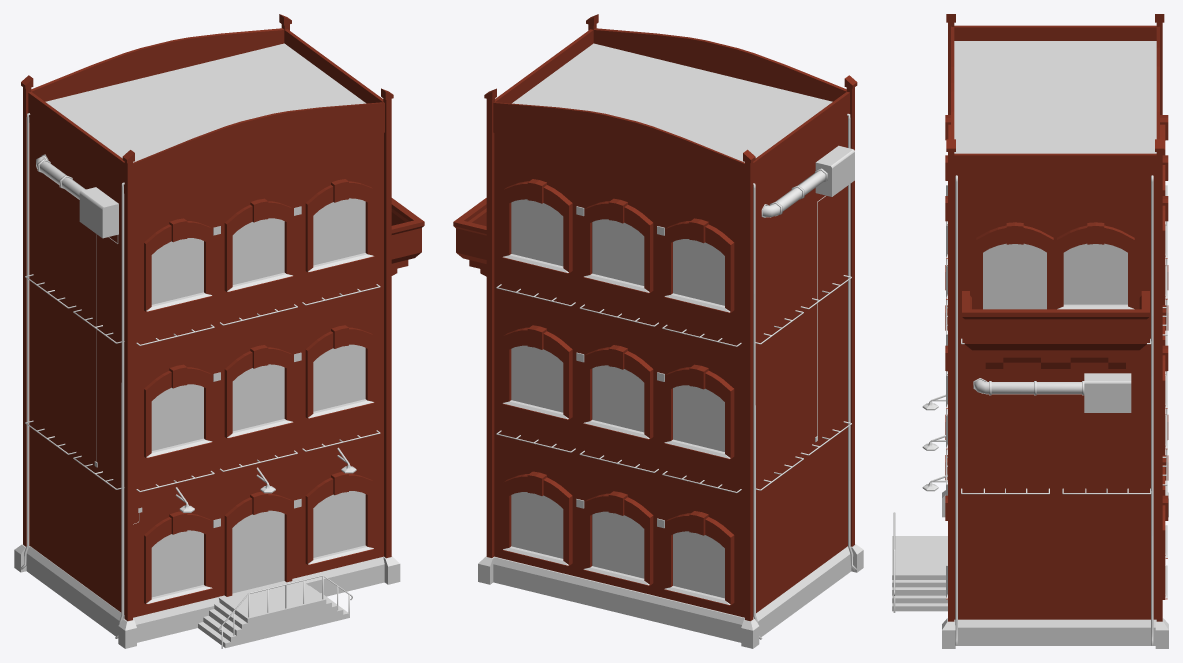
Rendered from Sketchfab_2017_05_09_11_21_22.fbx.
The picture shows the model from 3 angles, left to right: view 1: azimuth 30°, elevation 25°; view 2: azimuth 150°, elevation 25°; view 3: azimuth 270°, elevation 25°; orthographic projection. The views are drawn at different scales.
Parts seen in each view (by area): view 1: Apartment, Detail, Window, Frames, WallRailing, Foundation, Stairs, Door, AirCond, Cube; view 2: Apartment, Detail, Window, Frames, Foundation, WallRailing, AirCond, Cube; view 3: Apartment, Detail, Cube, Frames, Foundation, WallRailing, Stairs, Door.002, Window, AirCond.
Boxes of the visible parts, x1,y1,x2,y2 form: Apartment: (30,123,383,617); Detail: (21,14,393,621); Window: (151,198,365,597); Frames: (144,179,373,604); WallRailing: (20,113,380,648); Foundation: (14,544,400,648); Stairs: (198,578,349,648); Door: (232,510,284,593); AirCond: (36,154,118,238); Cube: (391,198,424,275); Apartment: (494,123,847,617); Detail: (484,14,857,621); Window: (511,199,724,598); Frames: (502,179,734,605); Foundation: (478,544,863,648); WallRailing: (496,113,856,639); AirCond: (761,145,854,217); Cube: (453,198,486,276); Apartment: (954,185,1156,619); Detail: (946,14,1164,621); Cube: (962,291,1149,368); Frames: (945,115,1168,599); Foundation: (942,490,1168,648); WallRailing: (893,175,1167,645); Stairs: (892,536,947,611); Door.002: (983,243,1046,309); Window: (1063,243,1127,304); AirCond: (973,373,1131,412).
Size of the model in its own units: 2714 by 4055 by 2009.
